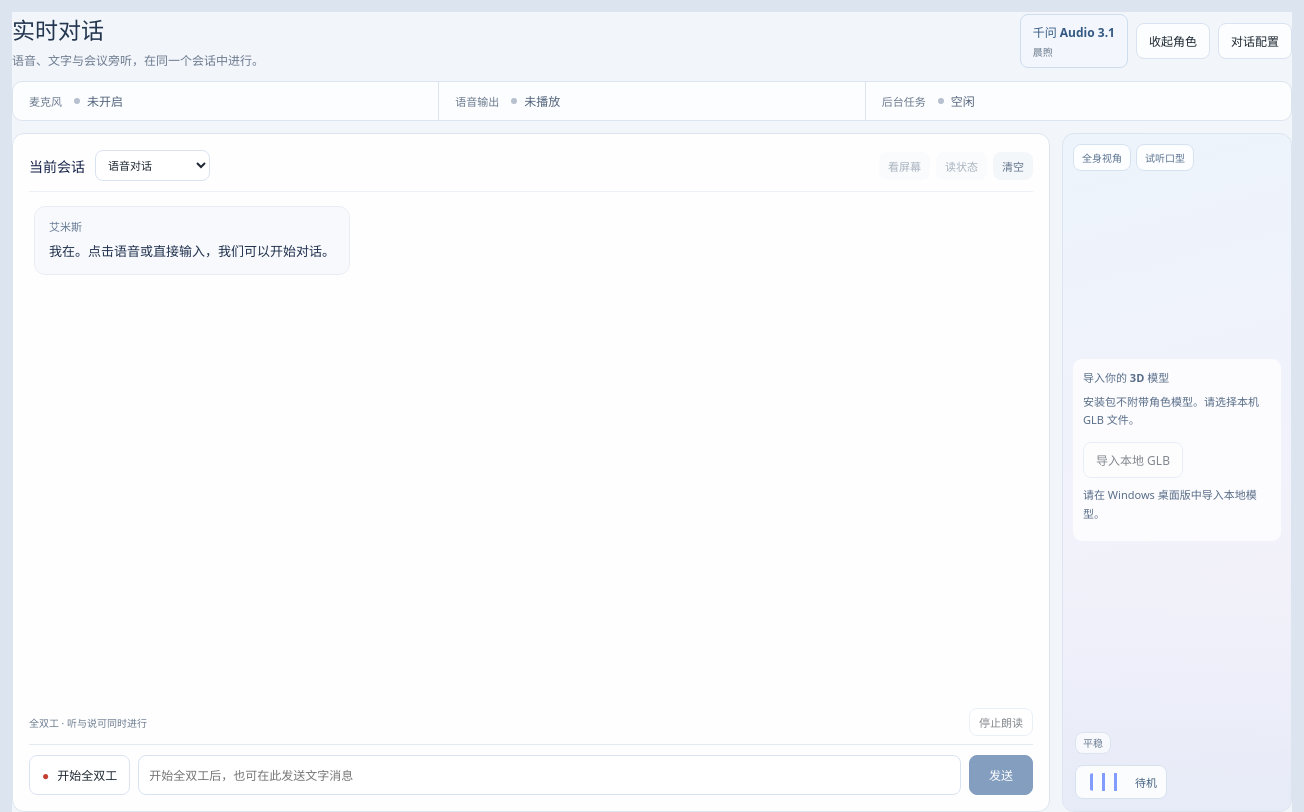
Realtime API models in the existing 3D application › replaces cumulative captions by stable ID and displays microphone progress
Click the button "●开始全双工": coordinates (80, 775) [29,755,130,795]
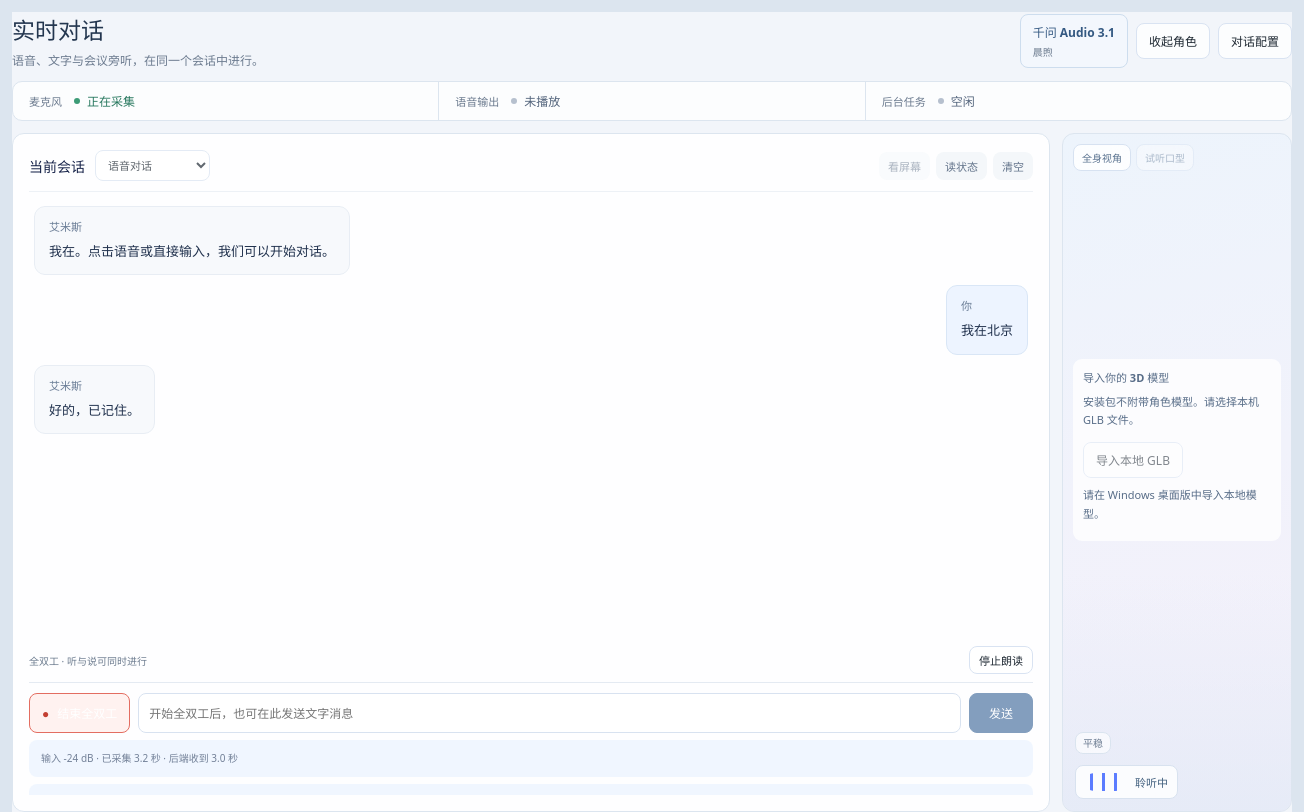
Result: the button "●结束全双工" is shown at [29,693,130,733]
Result: the number of elements with class "user" is 1 at [946,285,1028,355]
Result: the text "我在北京" is shown at [961,319,1013,343]
